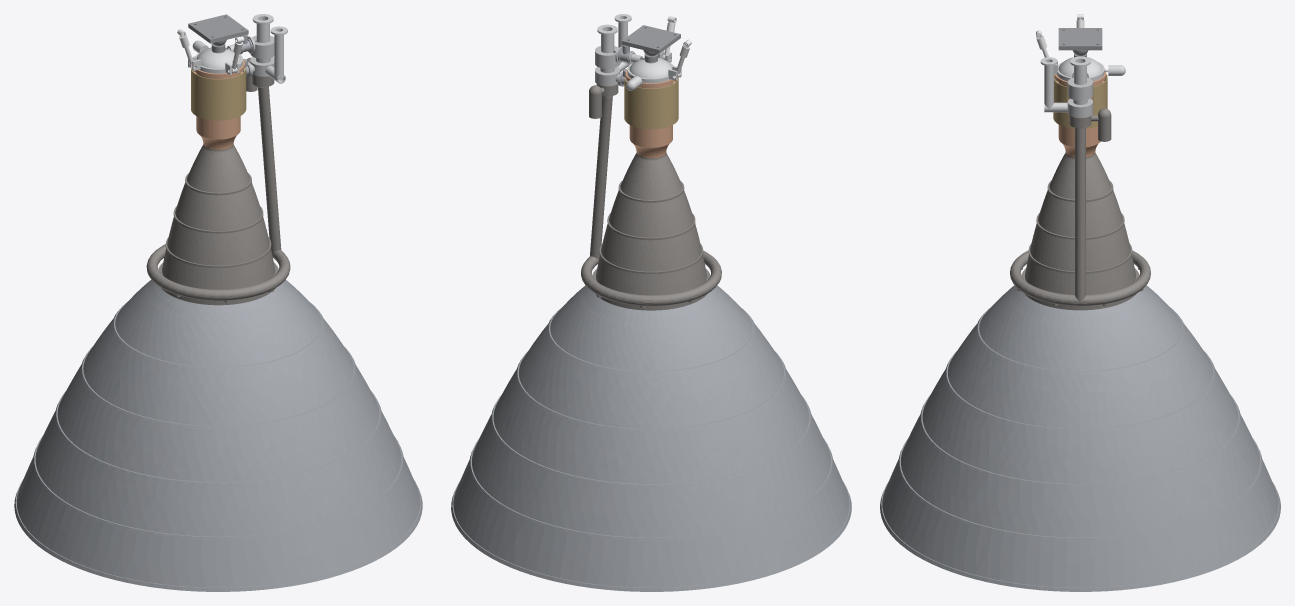
File: ENG_MVAC.glb
3 renders of one model, left to right at view 1: azimuth 30°, elevation 25°; view 2: azimuth 150°, elevation 25°; view 3: azimuth 270°, elevation 25°, orthographic.
Parts seen in each view (by area): view 1: ENG-MVAC-020, ENG-M1D-020, ENG-MVAC-040, ENG-M1D-130, ENG-M1D-010, ENG-M1D-100, ENG-M1D-090, ENG-M1D-030; view 2: ENG-MVAC-020, ENG-M1D-020, ENG-MVAC-040, ENG-M1D-130, ENG-M1D-010, ENG-M1D-100, ENG-M1D-030, ENG-M1D-090; view 3: ENG-MVAC-020, ENG-M1D-020, ENG-MVAC-040, ENG-M1D-090, ENG-M1D-100, ENG-M1D-130, ENG-M1D-010, ENG-M1D-030, ENG-M1D-042.
Boxes of the visible parts, left/top/right/bottom form: ENG-MVAC-020: left=14, top=279, right=422, bottom=591; ENG-M1D-020: left=160, top=144, right=276, bottom=289; ENG-MVAC-040: left=146, top=86, right=290, bottom=302; ENG-M1D-130: left=191, top=67, right=246, bottom=120; ENG-M1D-010: left=194, top=59, right=244, bottom=149; ENG-M1D-100: left=188, top=14, right=248, bottom=52; ENG-M1D-090: left=252, top=14, right=287, bottom=83; ENG-M1D-030: left=188, top=43, right=242, bottom=74; ENG-MVAC-020: left=451, top=285, right=851, bottom=591; ENG-M1D-020: left=594, top=153, right=708, bottom=295; ENG-MVAC-040: left=581, top=96, right=721, bottom=308; ENG-M1D-130: left=624, top=77, right=678, bottom=129; ENG-M1D-010: left=625, top=69, right=675, bottom=158; ENG-M1D-100: left=621, top=25, right=680, bottom=62; ENG-M1D-030: left=627, top=51, right=681, bottom=83; ENG-M1D-090: left=597, top=14, right=631, bottom=71; ENG-MVAC-020: left=880, top=285, right=1280, bottom=591; ENG-M1D-020: left=1023, top=152, right=1137, bottom=294; ENG-MVAC-040: left=1010, top=128, right=1150, bottom=305; ENG-M1D-090: left=1040, top=56, right=1090, bottom=112; ENG-M1D-100: left=1058, top=28, right=1102, bottom=57; ENG-M1D-130: left=1053, top=74, right=1107, bottom=128; ENG-M1D-010: left=1054, top=69, right=1106, bottom=157; ENG-M1D-030: left=1054, top=57, right=1104, bottom=81; ENG-M1D-042: left=1067, top=73, right=1093, bottom=104.
Bounding box in the file's own units: 3.32 × 4.34 × 3.32.
Materials: 1 (1 with a texture image).
